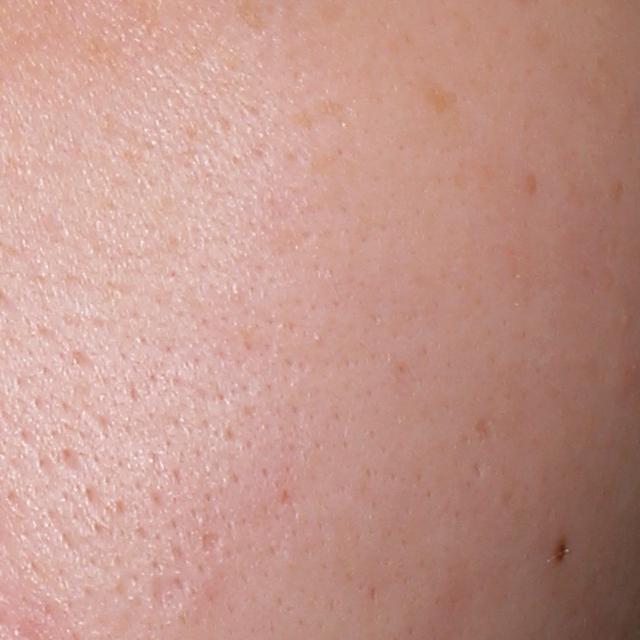atrophic_scar: (148, 571, 186, 617), (472, 417, 496, 448), (197, 532, 219, 554)
melasma: (421, 83, 459, 113)
nevus: (547, 536, 568, 570)
